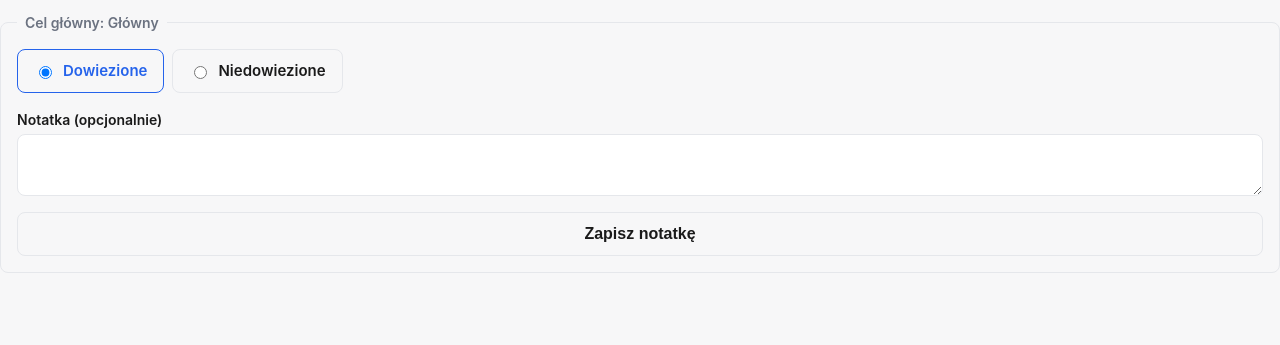
Test: GoalMarkRow (oznaczanie per-cel) › błąd zapisu → rollback optymistycznego wyboru do poprzedniej wartości
Expected: the radio button labelled "Dowiezione" is checked, x1=39 y1=66 x2=52 y2=79
What coordinates should you click on to do the following:
click the radio button labelled "Niedowiezione"
I would click on:
 (201, 72)
Its box is x1=194 y1=66 x2=208 y2=79.
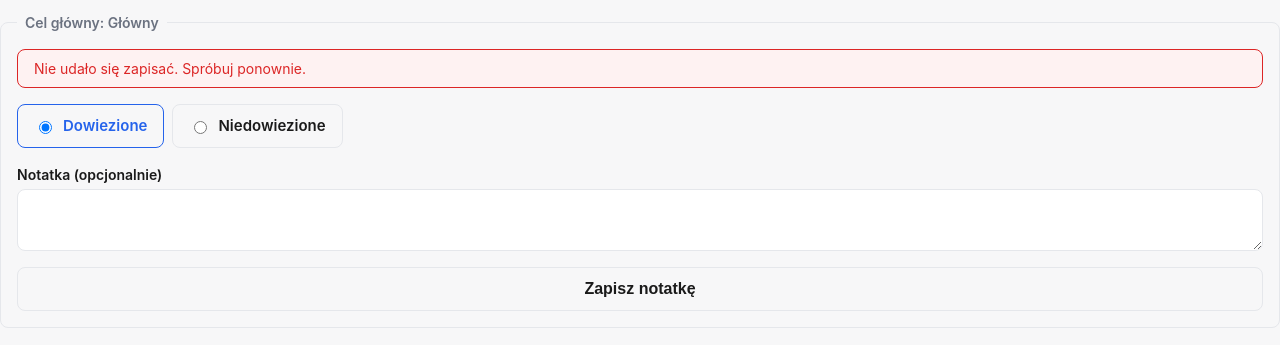
Expected: the radio button labelled "Dowiezione" is checked, x1=39 y1=121 x2=52 y2=134
Result: the message "Nie udało się zapisać. Spróbuj ponownie." is shown at x1=17 y1=49 x2=1263 y2=88
